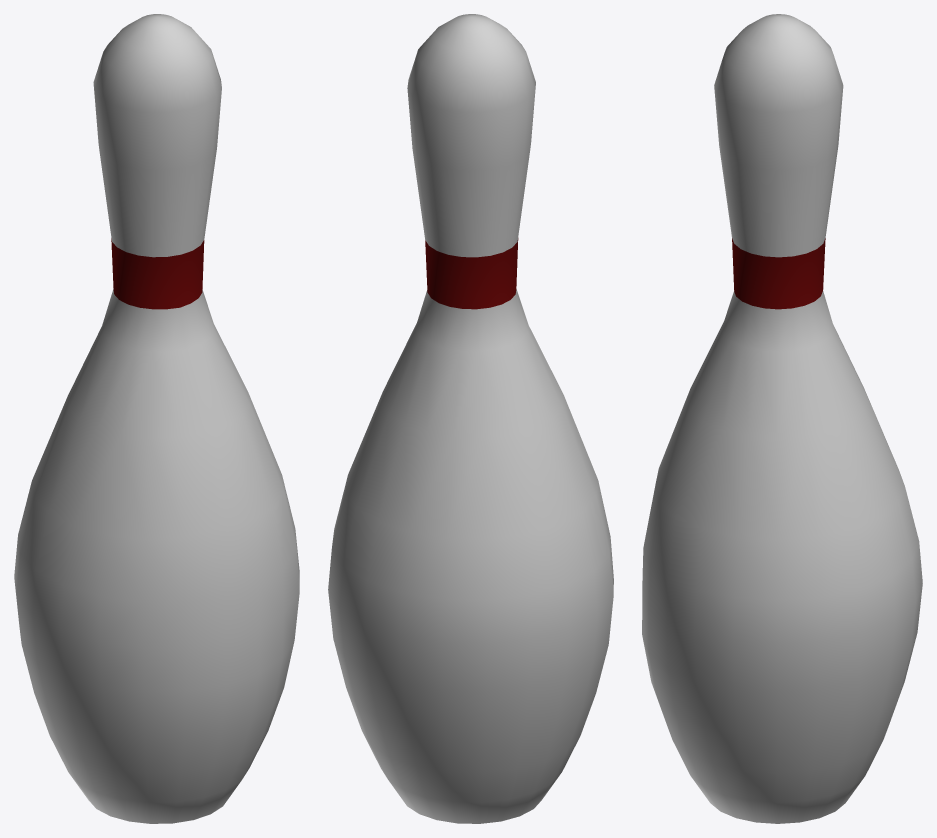
Rendered from bowling_pin2.dae.
3 renders of one model, left to right at view 1: azimuth 30°, elevation 25°; view 2: azimuth 150°, elevation 25°; view 3: azimuth 270°, elevation 25°, orthographic.
Visible parts, largest first — view 1: pSphere1; view 2: pSphere1; view 3: pSphere1.
Part boxes in pixels (box(x1,y1,x2,y2)): pSphere1: box(14, 14, 299, 823); pSphere1: box(328, 14, 613, 823); pSphere1: box(642, 14, 922, 823).
Size of the model in its own units: 0.7383 by 2.19 by 0.7162.
